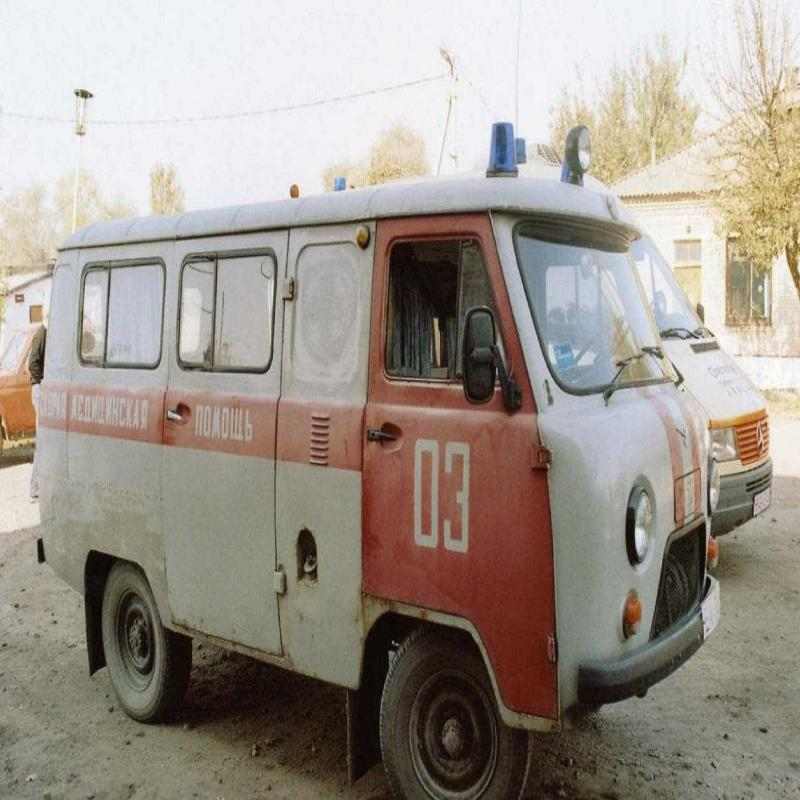AmbulanceSiren: (488, 120, 526, 206)
